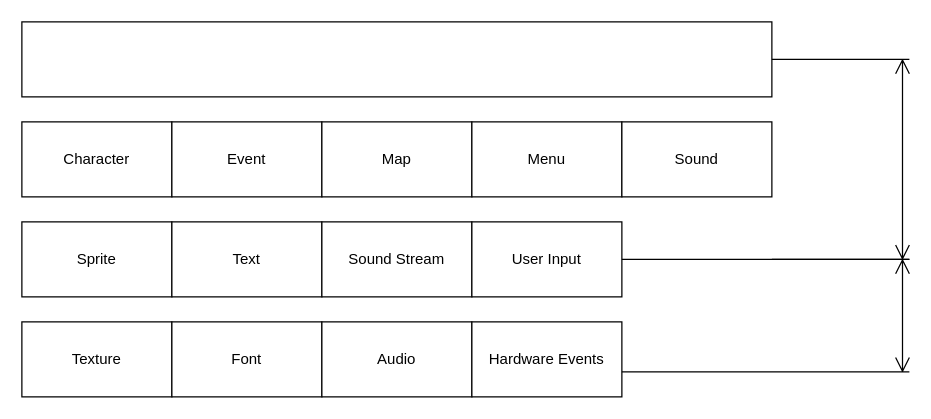
Image size: 931x419. Some labels were removed from this diagram. Each missing label, with the centre of its shape:
"Scene" belongs at [396,59].
"Timeless-RPG" belongs at [840,158].
"Timeless-SDL" belongs at [765,315].
